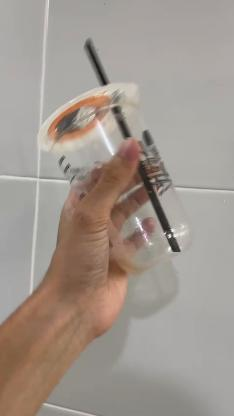Plastic Cup: (36, 82, 196, 278)
